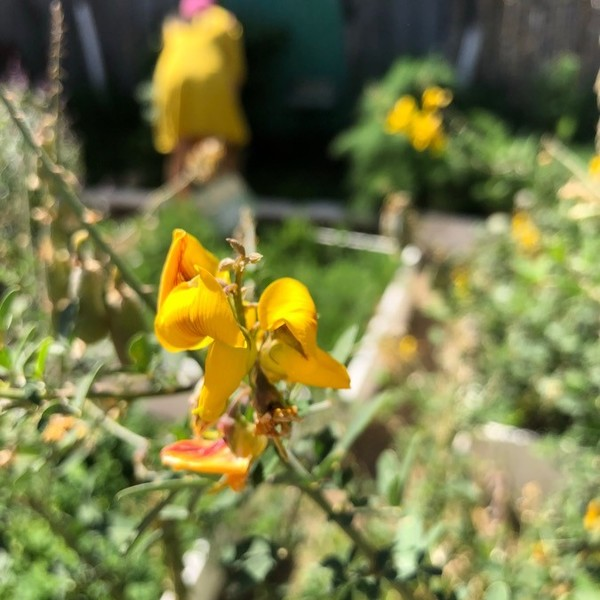obstacle: (157, 203, 355, 502)
